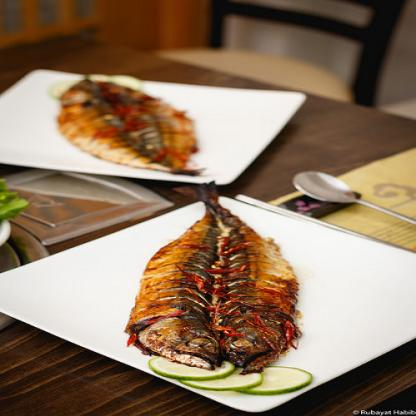Peixe: (100, 192, 297, 390), (20, 58, 235, 184)
